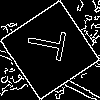T: (25, 25, 76, 64)
